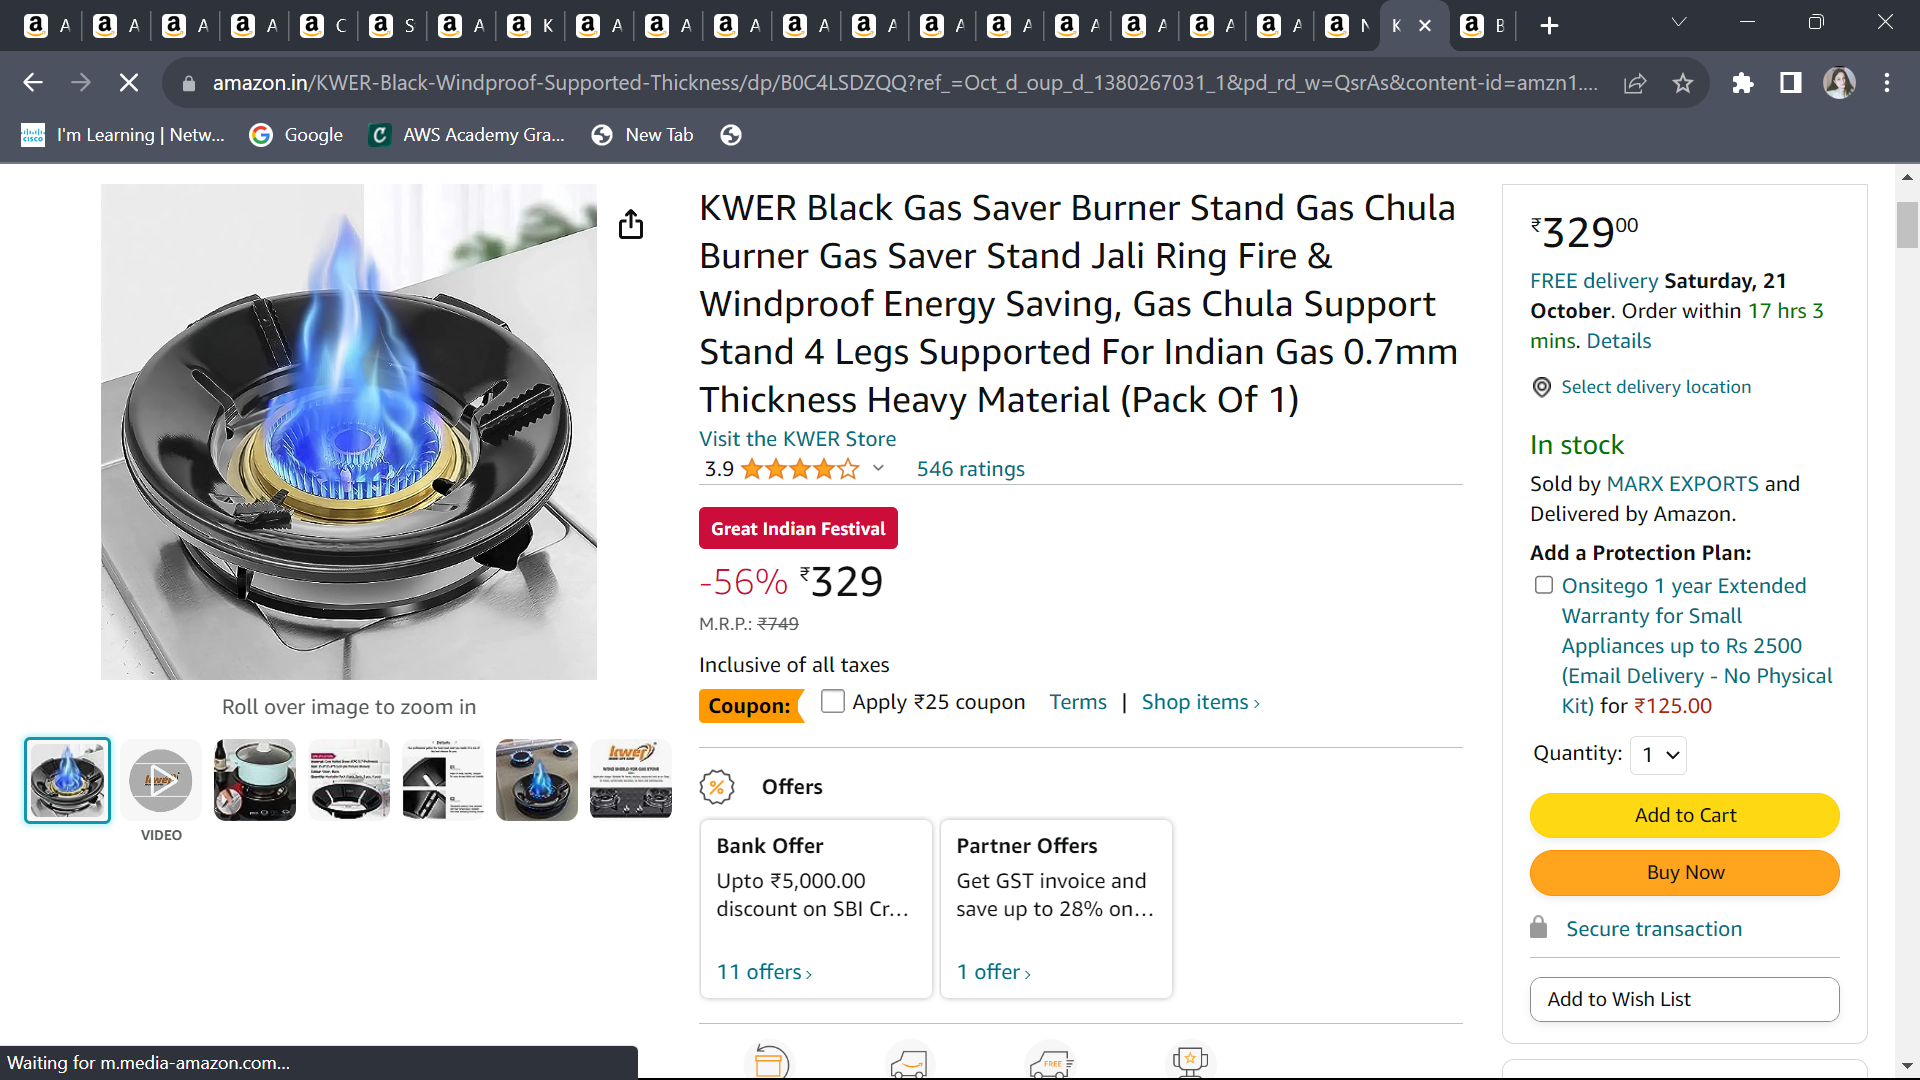Image: (50, 200, 615, 699)
Paragraph: (675, 167, 1487, 421), (702, 761, 1228, 985), (1516, 472, 1833, 725), (663, 657, 1266, 735), (1520, 789, 1845, 911), (1526, 272, 1842, 361), (663, 555, 971, 647), (680, 427, 1048, 484), (1516, 361, 1774, 411), (1516, 723, 1714, 777), (1520, 404, 1658, 465), (1509, 196, 1660, 245)
